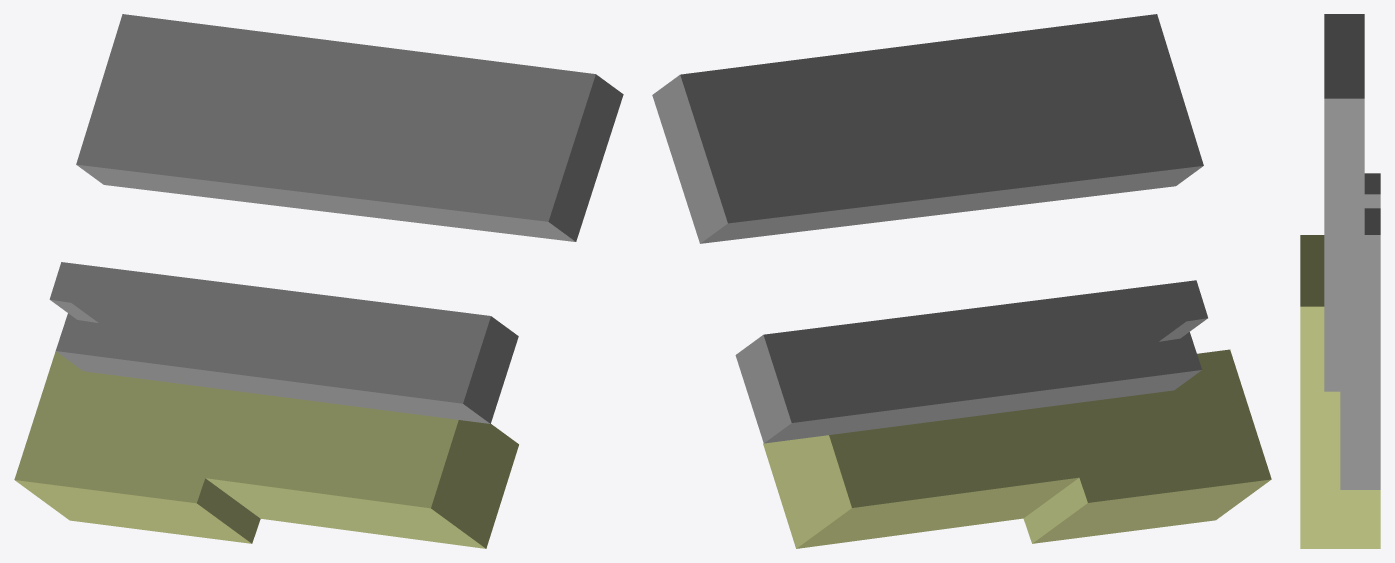
3 renders of one model, left to right at view 1: azimuth 30°, elevation 25°; view 2: azimuth 150°, elevation 25°; view 3: azimuth 270°, elevation 25°, orthographic. The views are drawn at different scales.
Parts seen in each view (by area): view 1: 0_3_1_3_3_2_3_2_3; view 2: 0_3_1_3_3_2_3_2_3; view 3: 0_3_1_3_3_2_3_2_3.
Part boxes in pixels (left/top/right/bottom): 0_3_1_3_3_2_3_2_3: left=14, top=14, right=623, bottom=548; 0_3_1_3_3_2_3_2_3: left=652, top=14, right=1271, bottom=548; 0_3_1_3_3_2_3_2_3: left=1300, top=14, right=1380, bottom=548.
Bounding box in the file's own units: 35.64 × 34.65 × 6.
